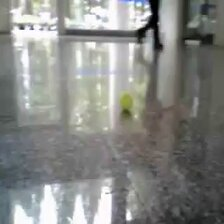tennis: (119, 92, 134, 109)
